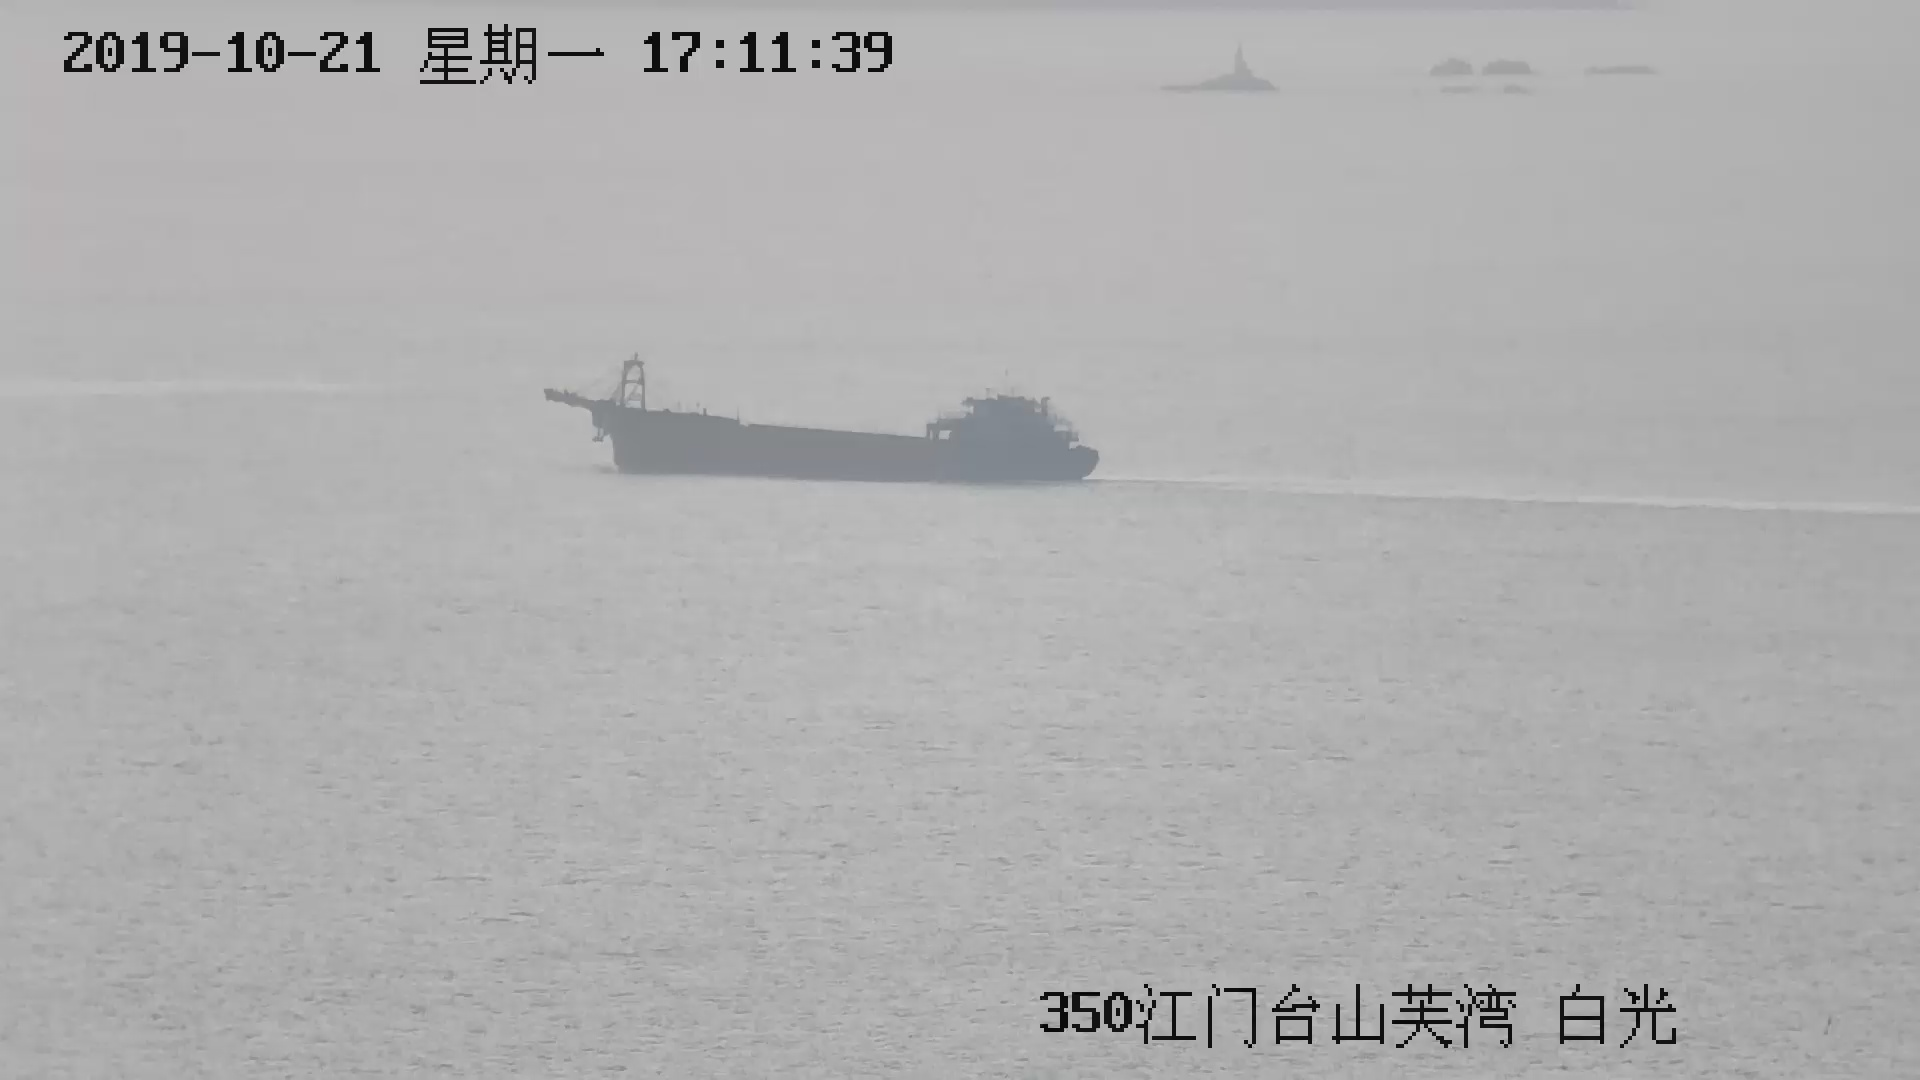ship: (538, 342, 1106, 480)
